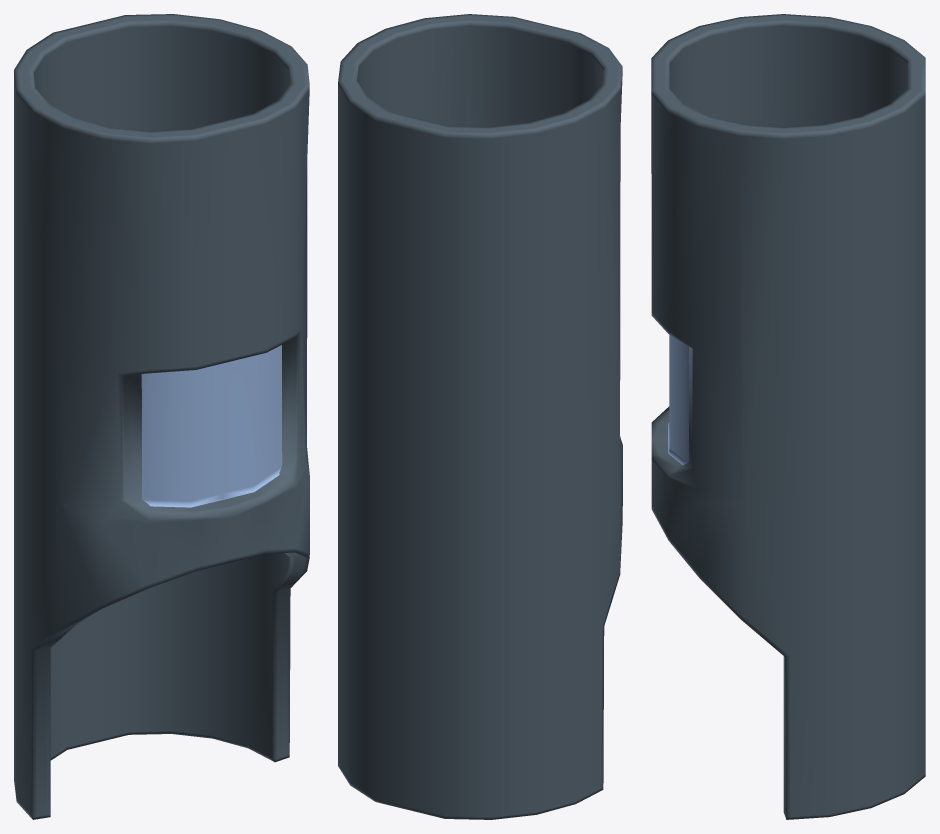
File: tubePropV5.fbx
3 views of the same model, side by side, from view 1: azimuth 30°, elevation 25°; view 2: azimuth 150°, elevation 25°; view 3: azimuth 270°, elevation 25° (orthographic). The views are drawn at different scales.
Visible parts, largest first — view 1: Cylinder004; view 2: Cylinder004; view 3: Cylinder004.
Boxes of the visible parts, x1,y1,x2,y2 form: Cylinder004: (14, 14, 309, 819); Cylinder004: (338, 14, 622, 819); Cylinder004: (651, 14, 925, 819).
Size of the model in its own units: 157 by 415 by 151.
